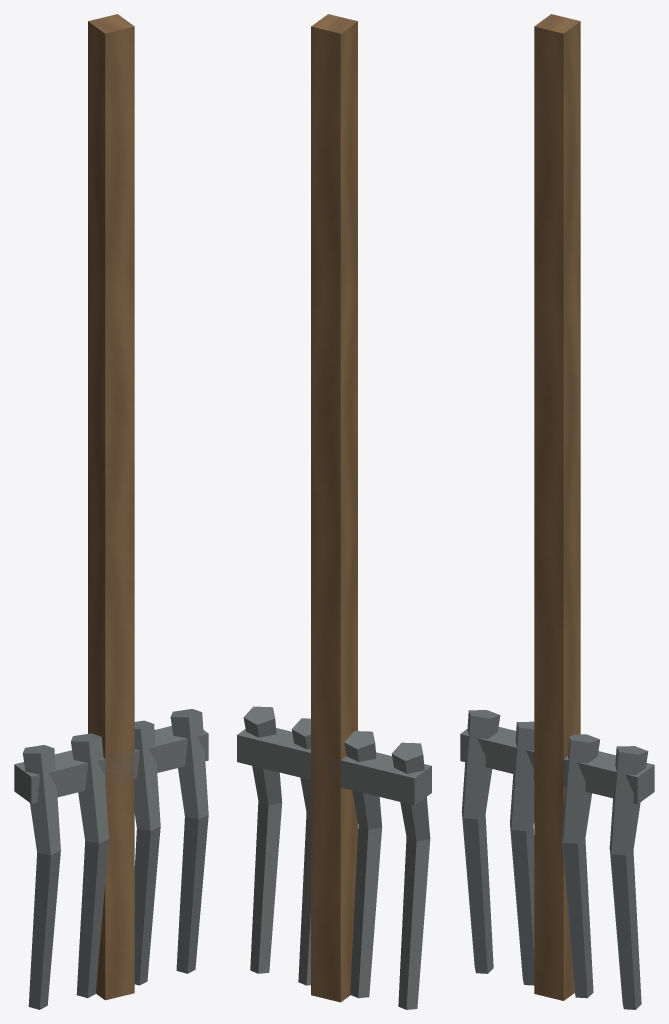
The model's file is pitchfork.glb.
3 renders of one model, left to right at view 1: azimuth 30°, elevation 25°; view 2: azimuth 150°, elevation 25°; view 3: azimuth 330°, elevation 25°, orthographic.
Parts seen in each view (by area): view 1: pitchfork; view 2: pitchfork; view 3: pitchfork.
Part boxes in pixels (x1,y1,x2,y2): pitchfork: [14, 14, 208, 1009]; pitchfork: [237, 14, 431, 1009]; pitchfork: [460, 14, 654, 1009].
Bounding box in the file's own units: 0.24 × 1.25 × 0.0593.
2 materials, 1 textured.
